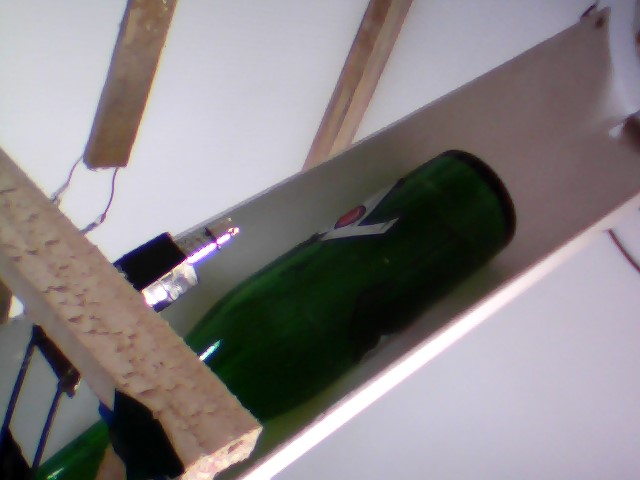vidrio: (172, 140, 523, 423)
